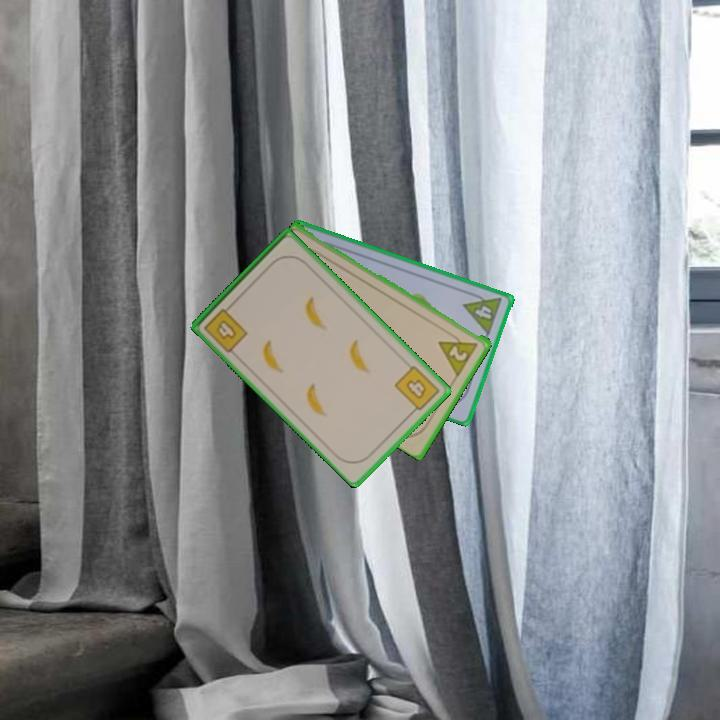2p: (446, 342, 471, 364)
4b: (391, 362, 443, 417), (200, 300, 251, 356)
4p: (460, 287, 505, 338)
